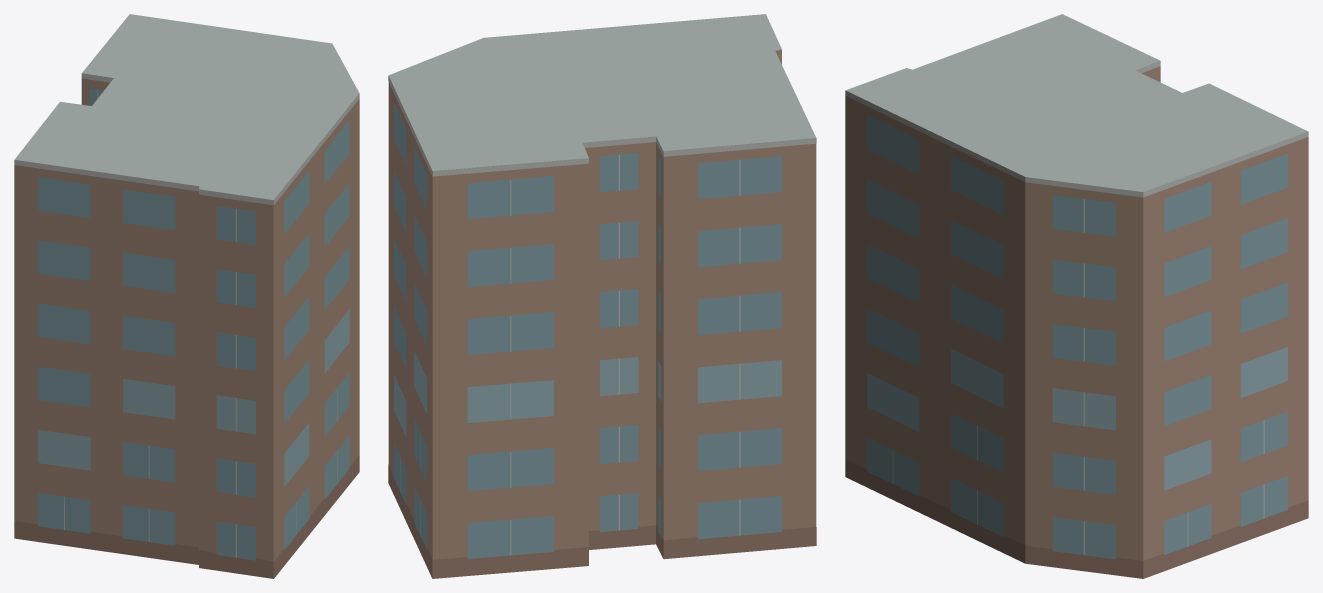
The model's file is survey-upis-32973265.glb.
The picture shows the model from 3 angles, left to right: view 1: azimuth 30°, elevation 25°; view 2: azimuth 150°, elevation 25°; view 3: azimuth 270°, elevation 25°; orthographic projection. The views are drawn at different scales.
Parts seen in each view (by area): view 1: survey-upis-32973265.tmp; view 2: survey-upis-32973265.tmp; view 3: survey-upis-32973265.tmp.
Boxes of the visible parts, x1,y1,x2,y2 form: survey-upis-32973265.tmp: (14,14,359,578); survey-upis-32973265.tmp: (388,14,816,578); survey-upis-32973265.tmp: (845,14,1308,578).
Size of the model in its own units: 17.7 by 17.9 by 19.44.
